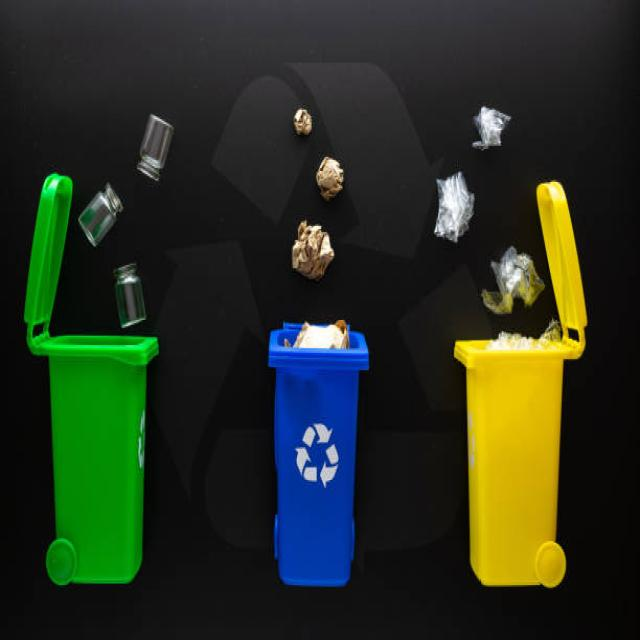glass: (84, 122, 172, 318)
paper: (271, 104, 350, 312)
plastic: (442, 100, 538, 322)
